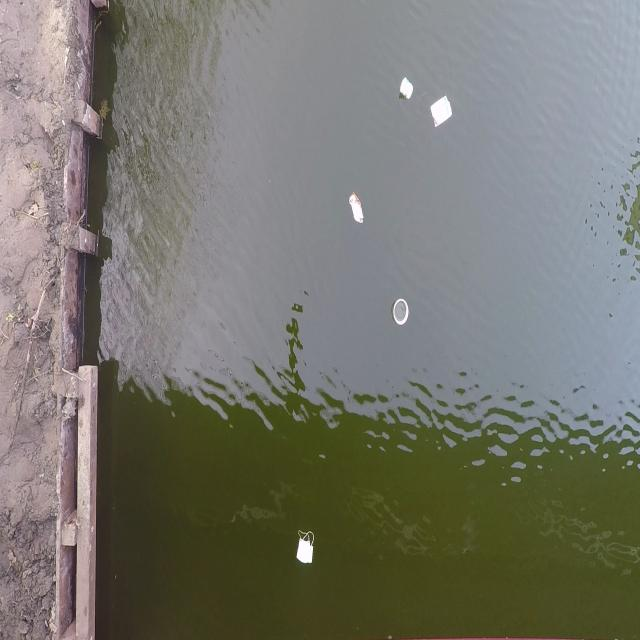Autre plastique: (388, 289, 411, 334)
Non plastique: (292, 523, 320, 576), (347, 182, 368, 233), (396, 68, 416, 106)
